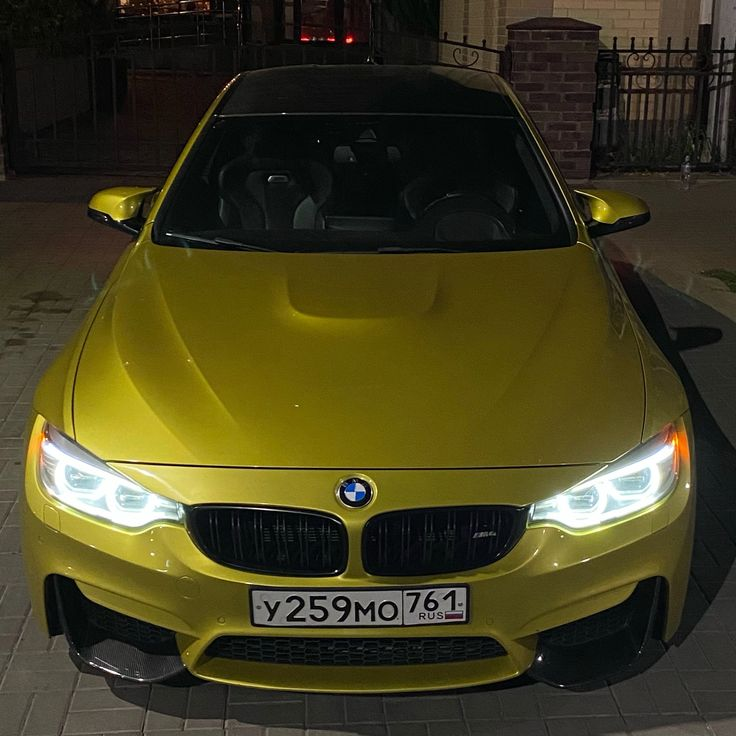plate: (250, 583, 468, 626)
